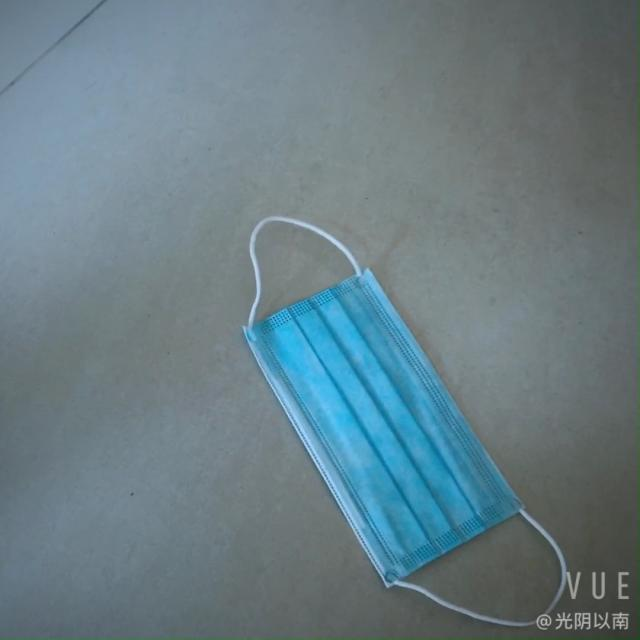non-organic waste: (242, 257, 527, 585)
